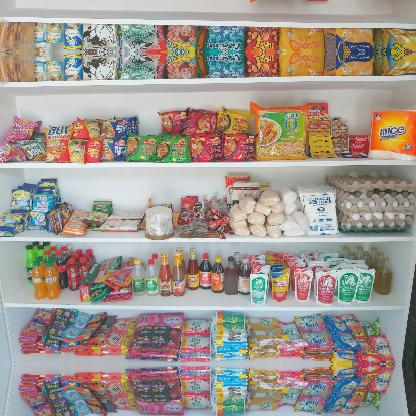Lady-s-Choice: (144, 206, 174, 240)
